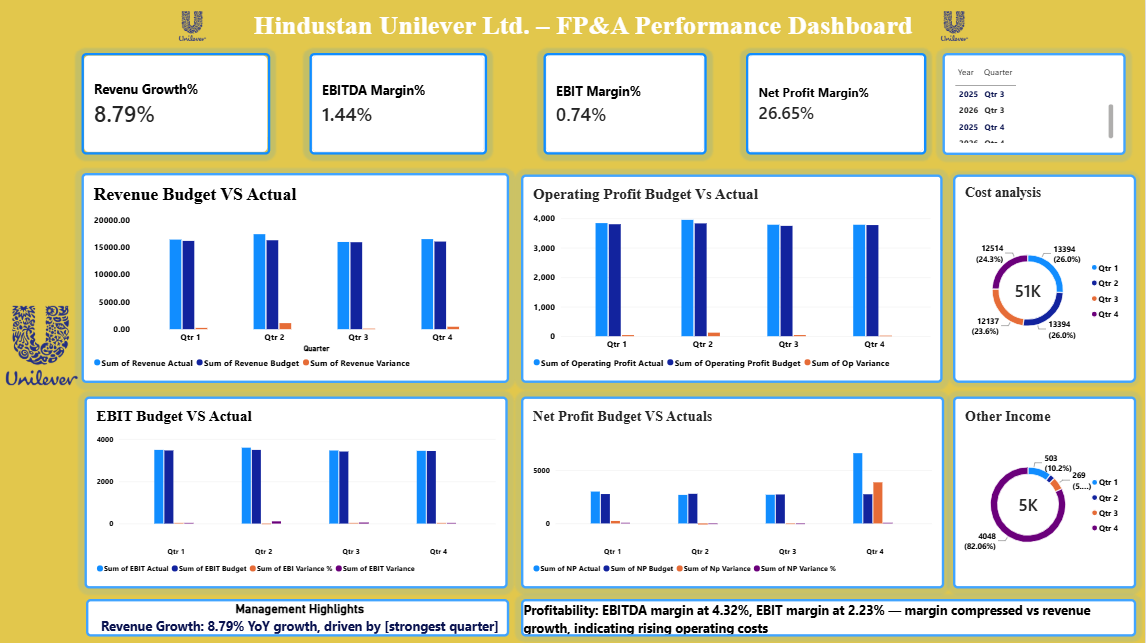

This screenshot's page, from the dashboard's own definition file:
{"tool":"powerbi","page":{"name":"Page 1","canvas":[1920,1080],"ordinal":0},"visuals":[{"type":"cardVisual","fields":{"Data":["Sum(Dashbord.Revenue Growth%)"]},"box":[147.5,90,314.9,169.4],"z":0},{"type":"cardVisual","fields":{"Data":["Avg(Dashbord.EBITDA Growth %)"]},"box":[527.5,90,295.9,169.4],"z":1000},{"type":"cardVisual","fields":{"Data":["Avg(Dashbord.EBIT Growth%)"]},"box":[917.5,90,272,169.4],"z":2000},{"type":"cardVisual","fields":{"Data":["Avg(Dashbord.Net Profit%)"]},"box":[1255,90,300.6,169.4],"z":3000},{"type":"clusteredColumnChart","title":"Revenue Budget VS Actual ","fields":{"Category":["Dashbord.Period.Variation.Date Hierarchy.Quarter"],"Y":["Sum(Dashbord.Revenue Actual)","Sum(Dashbord.Revenue Budget)","Sum(Dashbord.Revenue Variance)"]},"box":[147.5,290,712.5,350],"z":4000},{"type":"clusteredColumnChart","title":"Operating Profit Budget Vs Actual","fields":{"Category":["Dashbord.Period.Variation.Date Hierarchy.Quarter"],"Y":["Sum(Dashbord.Operating Profit Actual)","Sum(Dashbord.Operating Profit Budget)","Sum(Dashbord.Op Variance)"]},"box":[880,292.5,702.5,347.5],"z":5000},{"type":"clusteredColumnChart","title":"EBIT Budget VS Actual","fields":{"Category":["Dashbord.Period.Variation.Date Hierarchy.Quarter"],"Y":["Sum(Dashbord.EBIT Actual)","Sum(Dashbord.EBIT Budget)","Sum(Dashbord.EBI Variance %)","Sum(Dashbord.EBIT Variance)"]},"box":[152.5,662.5,705,320],"z":6000},{"type":"clusteredColumnChart","title":"Net Profit Budget VS Actuals","fields":{"Category":["Dashbord.Period.Variation.Date Hierarchy.Quarter"],"Y":["Sum(Dashbord.NP Actual)","Sum(Dashbord.NP Budget)","Sum(Dashbord.Np Variance)","Sum(Dashbord.NP Variance %)"]},"box":[880,662.5,705,320],"z":7000},{"type":"donutChart","title":"Cost analysis","fields":{"Category":["Dashbord.Period.Variation.Date Hierarchy.Quarter"],"Y":["Sum(Dashbord.Expenses Actual)"]},"box":[1600,292.5,305,347.5],"z":8000},{"type":"donutChart","title":"Other Income ","fields":{"Category":["Dashbord.Period.Variation.Date Hierarchy.Quarter"],"Y":["Sum(Dashbord.Other Income Actual)"]},"box":[1600,662.5,305,320],"z":9000},{"type":"tableEx","fields":{"Values":["Dashbord.Period.Variation.Date Hierarchy.Year","Dashbord.Period.Variation.Date Hierarchy.Quarter"]},"box":[1582.5,90,305,170],"z":10000},{"type":"textbox","title":"Management Highlights","box":[155,1000,705,62.5],"z":11000},{"type":"textbox","box":[880,1000,1025,62.5],"z":11001},{"type":"image","box":[7.5,292.5,147.5,570],"z":11002},{"type":"textbox","title":"Hindustan Unilever Ltd. – FP&A Performance Dashboard","box":[102.5,17.5,1762.5,55],"z":11003},{"type":"image","box":[182.5,17.5,300,55],"z":11005},{"type":"image","box":[1452.5,17.5,300,55],"z":11006}]}

Visuals, with their boxes in screenshot pixels (x1, y1, x2, y2), scaled from the page's 1920x1080 canvas onto the 1146x643 screenshot:
cardVisual - Sum(Dashbord.Revenue Growth%): [x1=88, y1=54, x2=276, y2=154]
cardVisual - Avg(Dashbord.EBITDA Growth %): [x1=315, y1=54, x2=491, y2=154]
cardVisual - Avg(Dashbord.EBIT Growth%): [x1=548, y1=54, x2=710, y2=154]
cardVisual - Avg(Dashbord.Net Profit%): [x1=749, y1=54, x2=928, y2=154]
"Revenue Budget VS Actual " clusteredColumnChart: [x1=88, y1=173, x2=513, y2=381]
"Operating Profit Budget Vs Actual" clusteredColumnChart: [x1=525, y1=174, x2=945, y2=381]
"EBIT Budget VS Actual" clusteredColumnChart: [x1=91, y1=394, x2=512, y2=585]
"Net Profit Budget VS Actuals" clusteredColumnChart: [x1=525, y1=394, x2=946, y2=585]
"Cost analysis" donutChart: [x1=955, y1=174, x2=1137, y2=381]
"Other Income " donutChart: [x1=955, y1=394, x2=1137, y2=585]
tableEx - Dashbord.Period.Variation.Date Hierarchy.Year x Dashbord.Period.Variation.Date Hierarchy.Quarter: [x1=945, y1=54, x2=1127, y2=155]
"Management Highlights" textbox: [x1=93, y1=595, x2=513, y2=633]
textbox: [x1=525, y1=595, x2=1137, y2=633]
image: [x1=4, y1=174, x2=93, y2=514]
"Hindustan Unilever Ltd. – FP&A Performance Dashboard" textbox: [x1=61, y1=10, x2=1113, y2=43]
image: [x1=109, y1=10, x2=288, y2=43]
image: [x1=867, y1=10, x2=1046, y2=43]
